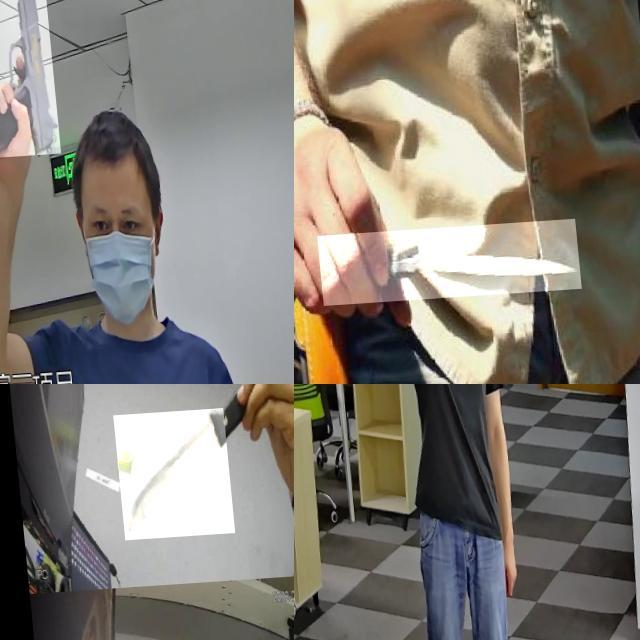-: (312, 226, 575, 310), (110, 411, 230, 542)
gun-knife-thesis - v11 Yolov5 augmented: (0, 0, 53, 160), (426, 384, 459, 437)
